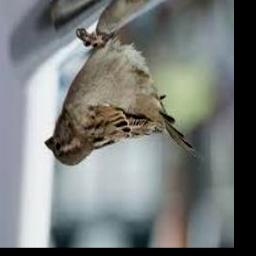Sparrow: (45, 29, 197, 165)
